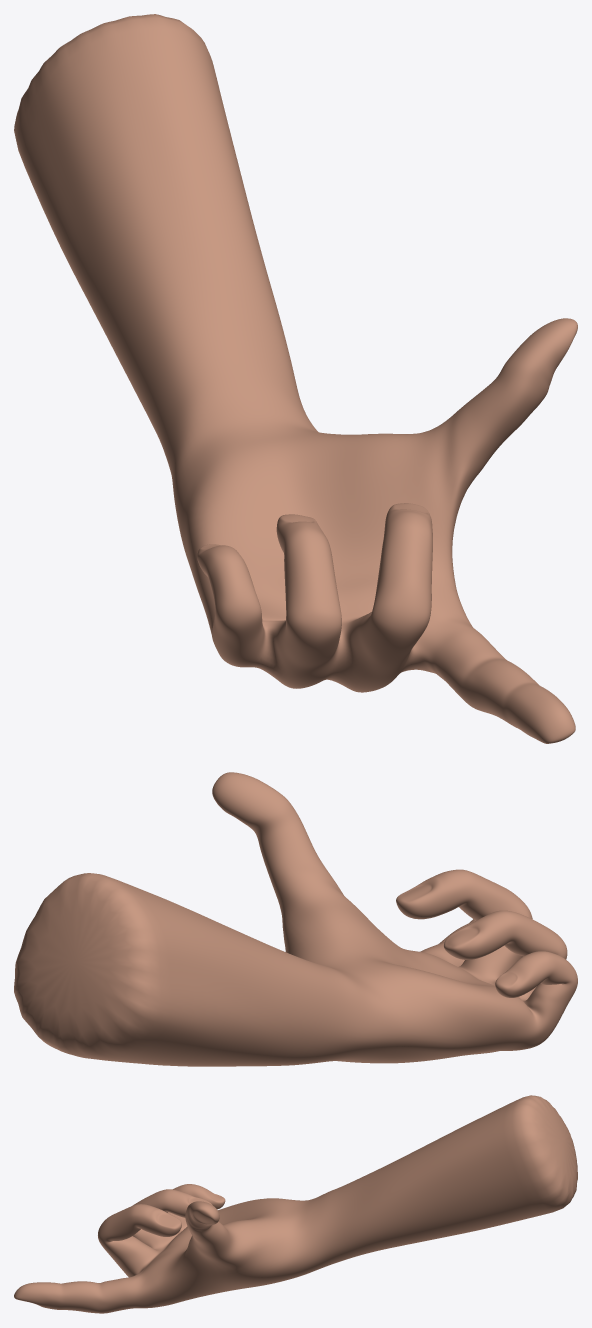
The model's file is finger.glb.
3 renders of one model, top to bottom at view 1: azimuth 30°, elevation 25°; view 2: azimuth 150°, elevation 25°; view 3: azimuth 270°, elevation 25°, orthographic. The views are drawn at different scales.
Parts seen in each view (by area): view 1: MakeHuman left pointing hand; view 2: MakeHuman left pointing hand; view 3: MakeHuman left pointing hand.
Part boxes in pixels (left/top/right/bottom): MakeHuman left pointing hand: left=14, top=14, right=577, bottom=743; MakeHuman left pointing hand: left=14, top=772, right=577, bottom=1066; MakeHuman left pointing hand: left=14, top=1095, right=577, bottom=1313.
Size of the model in its own units: 1.34 by 1.3 by 3.
